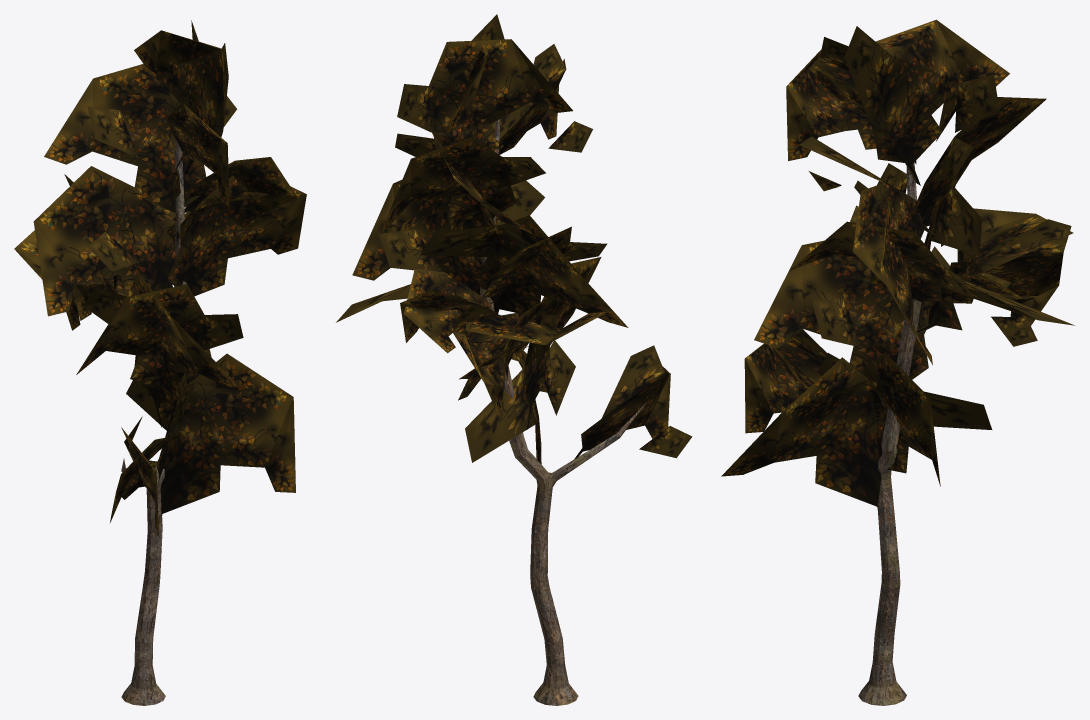
Rendered from tree_3.dae.
3 views of the same model, side by side, from view 1: azimuth 30°, elevation 25°; view 2: azimuth 150°, elevation 25°; view 3: azimuth 270°, elevation 25° (orthographic). The views are drawn at different scales.
Visible parts, largest first — view 1: Mesh_Object; view 2: Mesh_Object; view 3: Mesh_Object.
Boxes of the visible parts, <box> form: Mesh_Object: <box>14,20,306,705</box>; Mesh_Object: <box>336,14,692,705</box>; Mesh_Object: <box>721,19,1074,705</box>.
Bounding box in the file's own units: 4.57 × 10.8 × 4.91.
